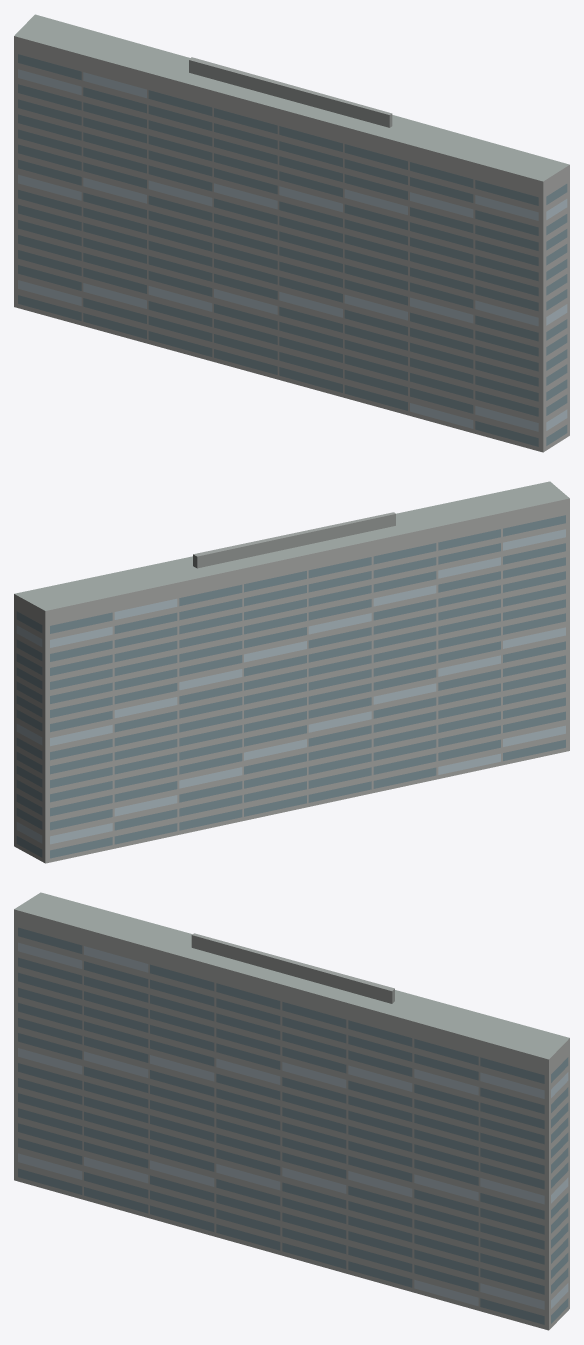
File: apt-a12086001.glb
The picture shows the model from 3 angles, top to bottom: view 1: azimuth 90°, elevation 25°; view 2: azimuth 150°, elevation 25°; view 3: azimuth 270°, elevation 25°; orthographic projection. The views are drawn at different scales.
Parts seen in each view (by area): view 1: apt-a12086001; view 2: apt-a12086001; view 3: apt-a12086001.
Part boxes in pixels (x1,y1,x2,y2): apt-a12086001: (14, 14, 569, 452); apt-a12086001: (14, 481, 569, 863); apt-a12086001: (14, 892, 569, 1330).
Size of the model in its own units: 64.43 by 51 by 90.56.
